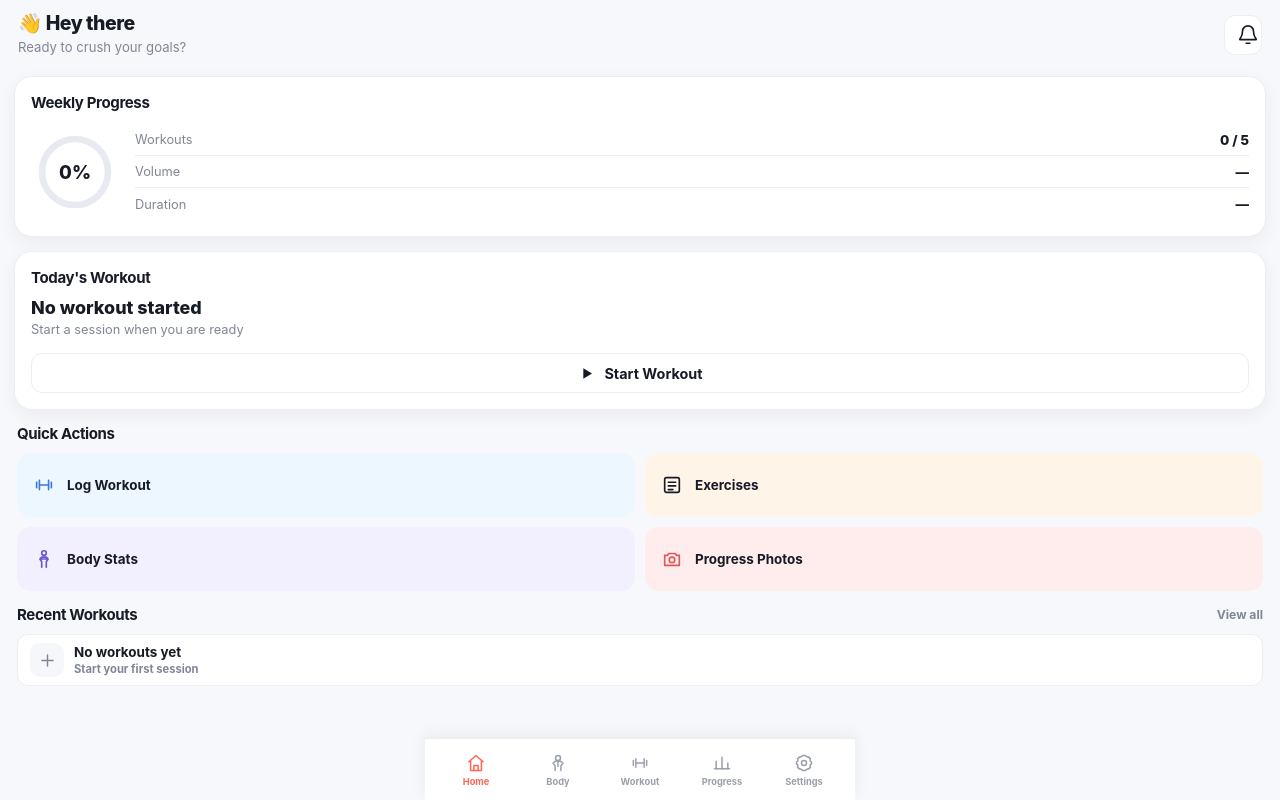
Test case: App shell › carries the unit choice from Settings to the other screens
Click the button "Settings" at (804, 770), box [763,744,845,795]
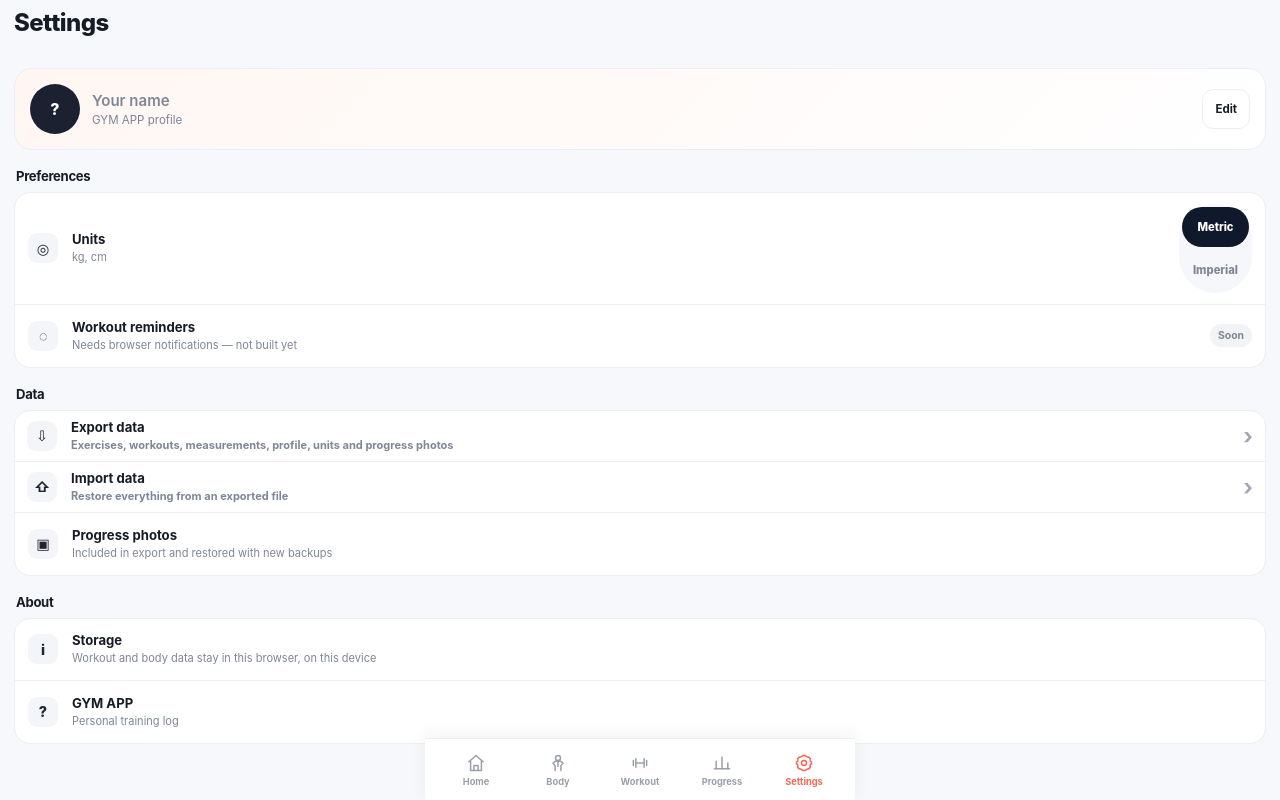
Click the button "Imperial" at (1215, 270), box [1182,250,1249,290]
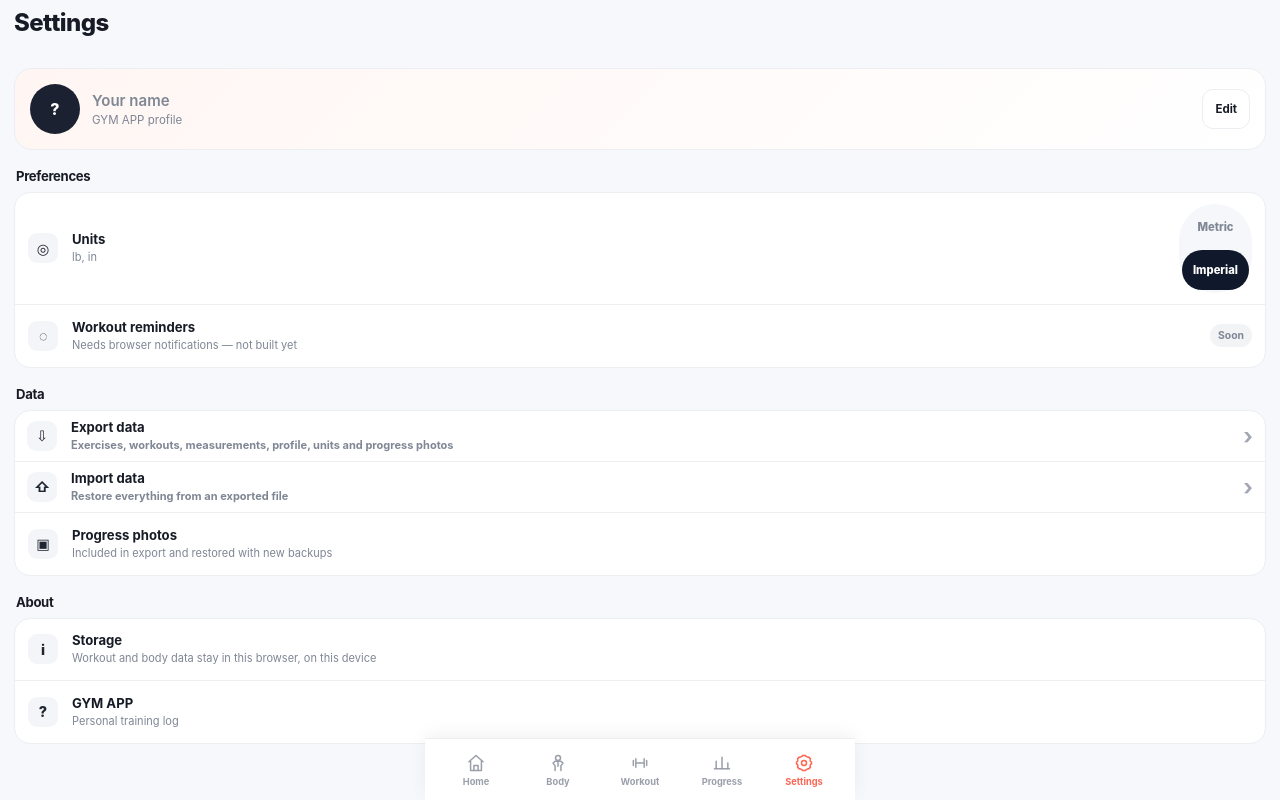
Click the button "Body" at (558, 770), box [517,744,599,795]
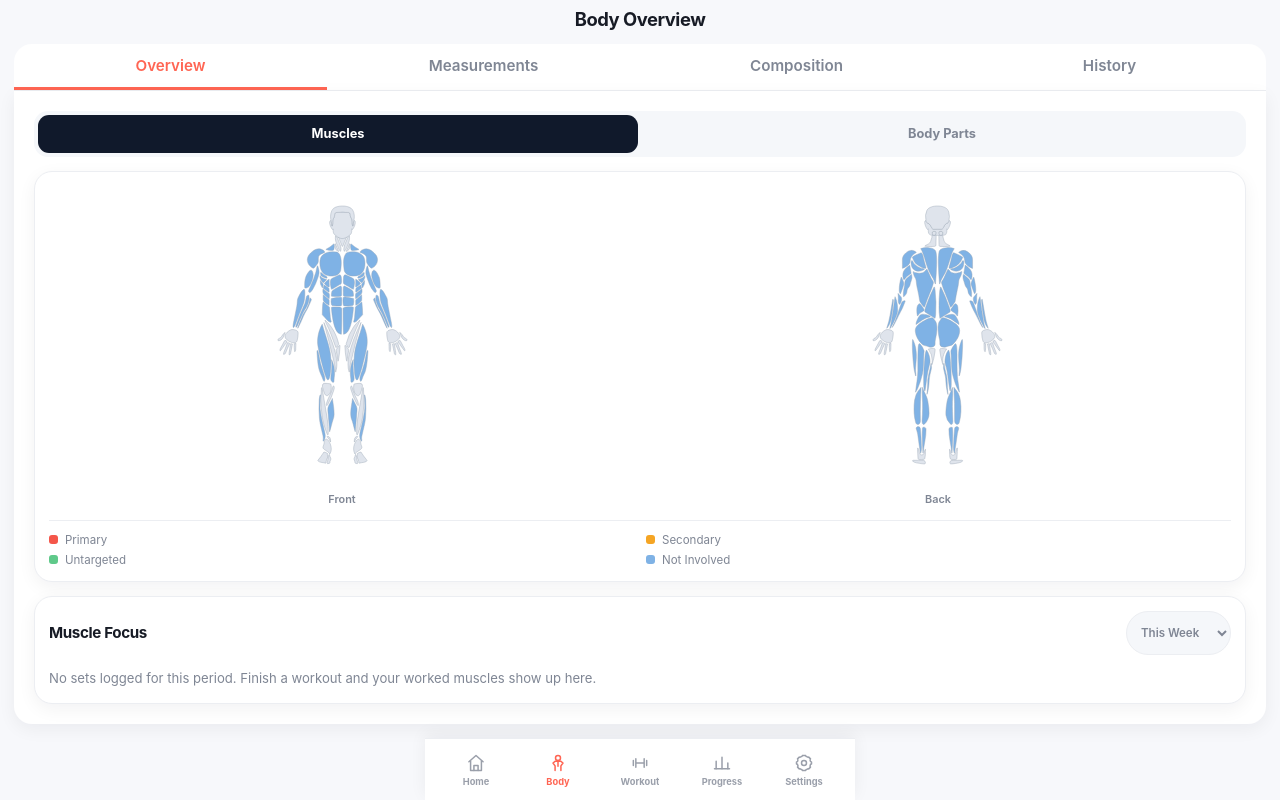
Click the tab "Composition" at (796, 67), box [640,44,953,90]
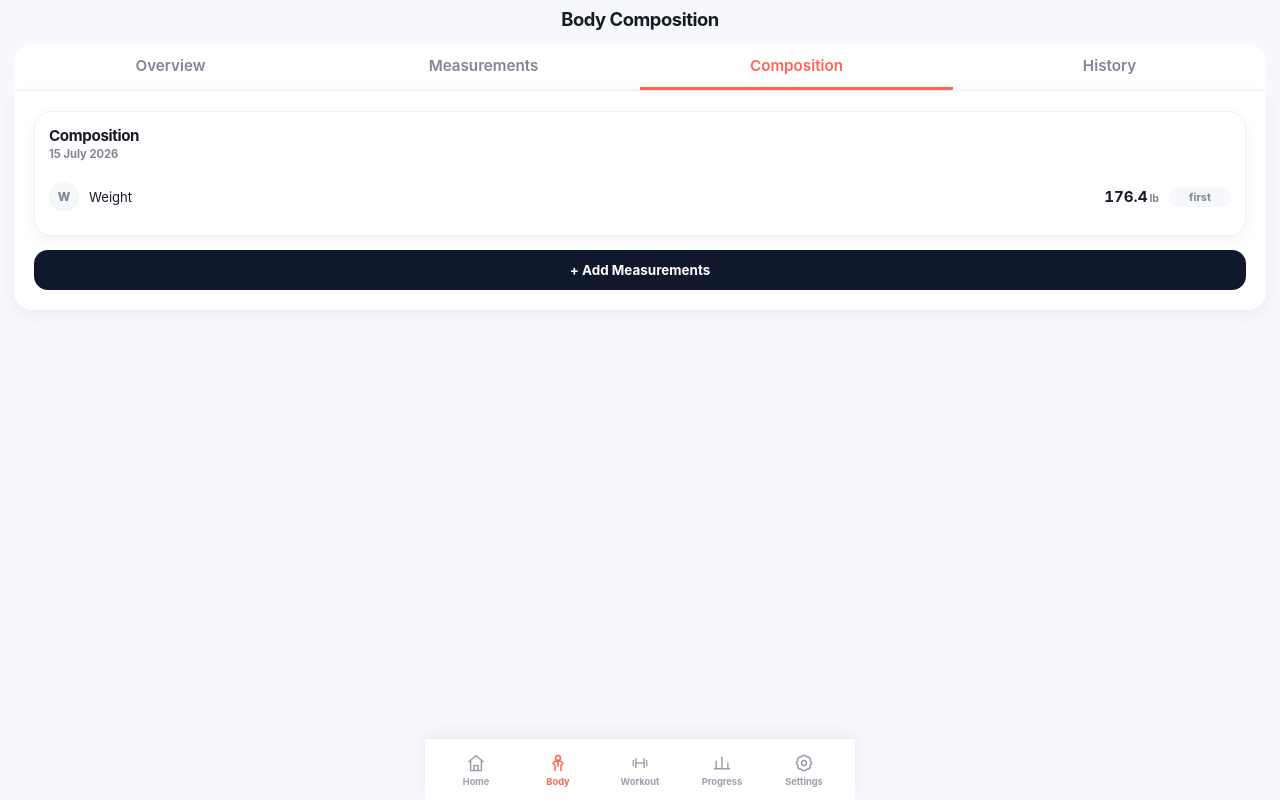
Result: the text "176.4" is shown at [1104,187,1148,206]
Result: the text "lb" is shown at [1150,192,1159,205]
